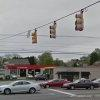Traffic light: (23, 16, 93, 44)
